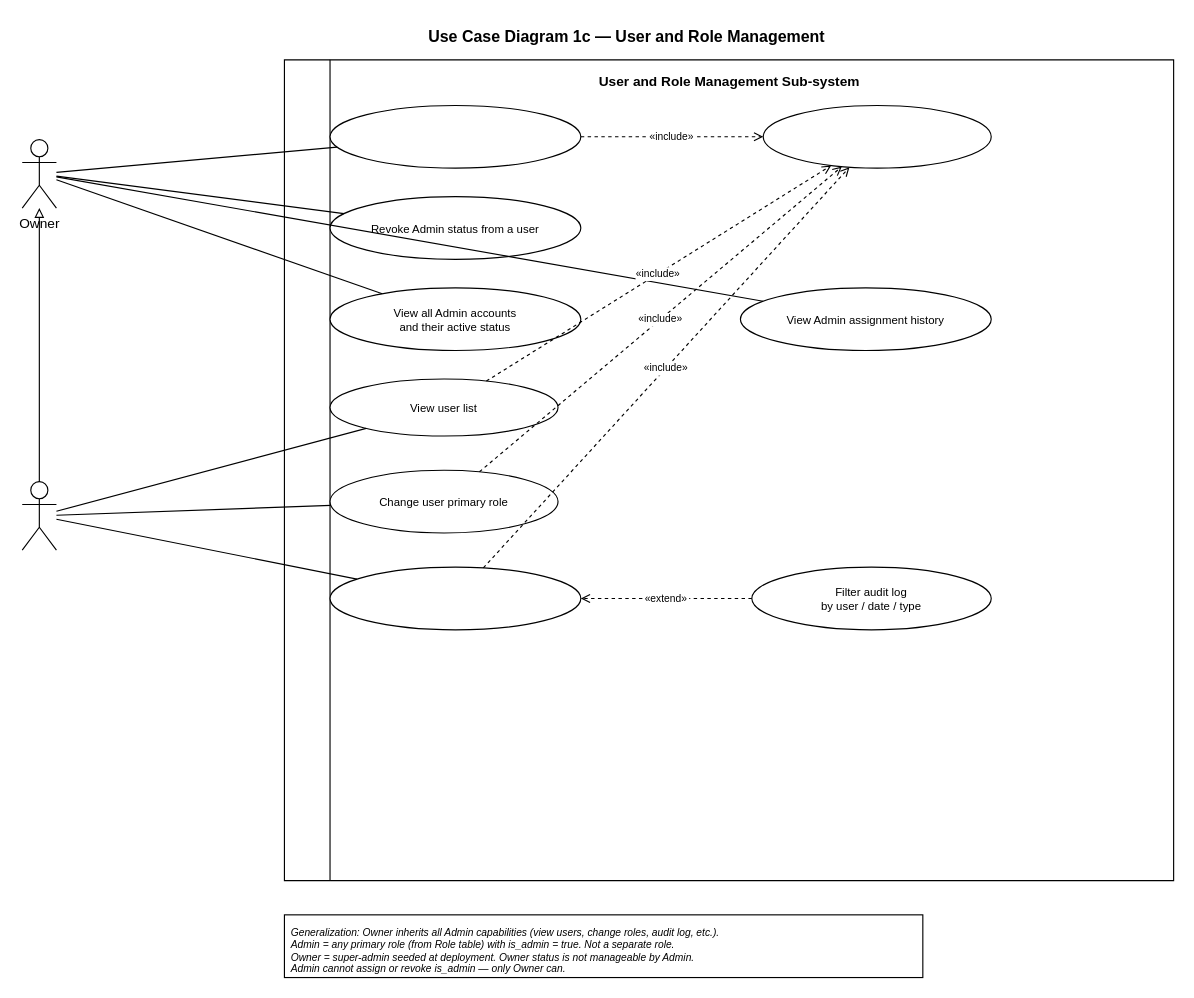
Some shapes in this 1194 by 998 pixel diagram are drawn without their labels. Each missing label, with the centre of its shape:
Admin: (x=38, y=515)
Assign Admin status to a user: (x=455, y=136)
Authenticate via Keycloak SSO: (x=876, y=136)
View full organizational audit log: (x=455, y=598)
